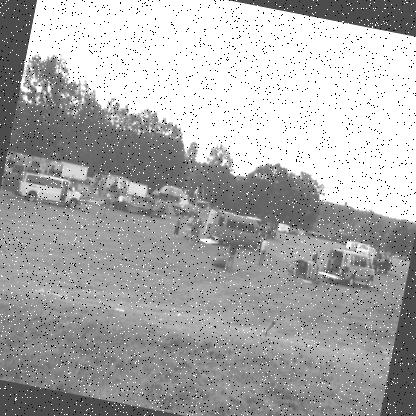Car: (0, 166, 86, 212), (315, 244, 377, 291), (172, 202, 200, 220), (372, 253, 392, 275)
